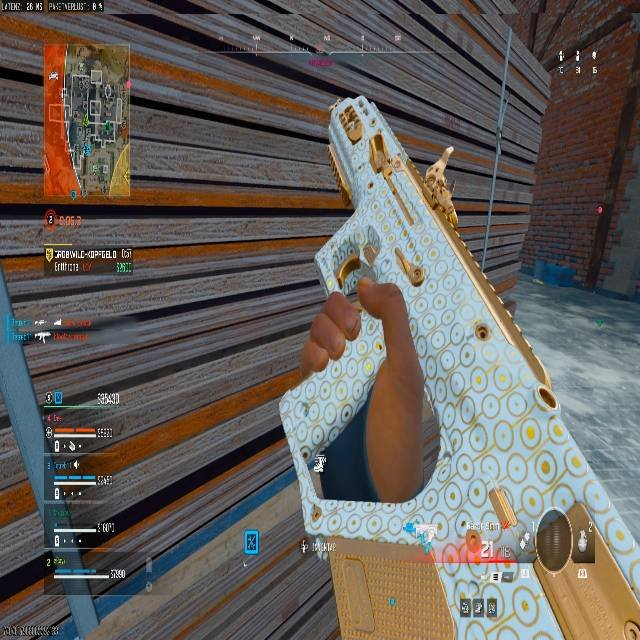player: (277, 154, 433, 518)
